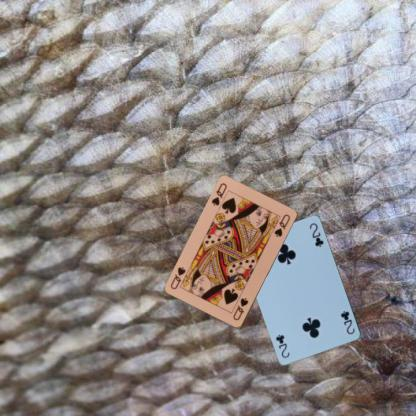2c: (338, 308, 356, 336)
Qs: (209, 180, 228, 208), (230, 295, 249, 322)
